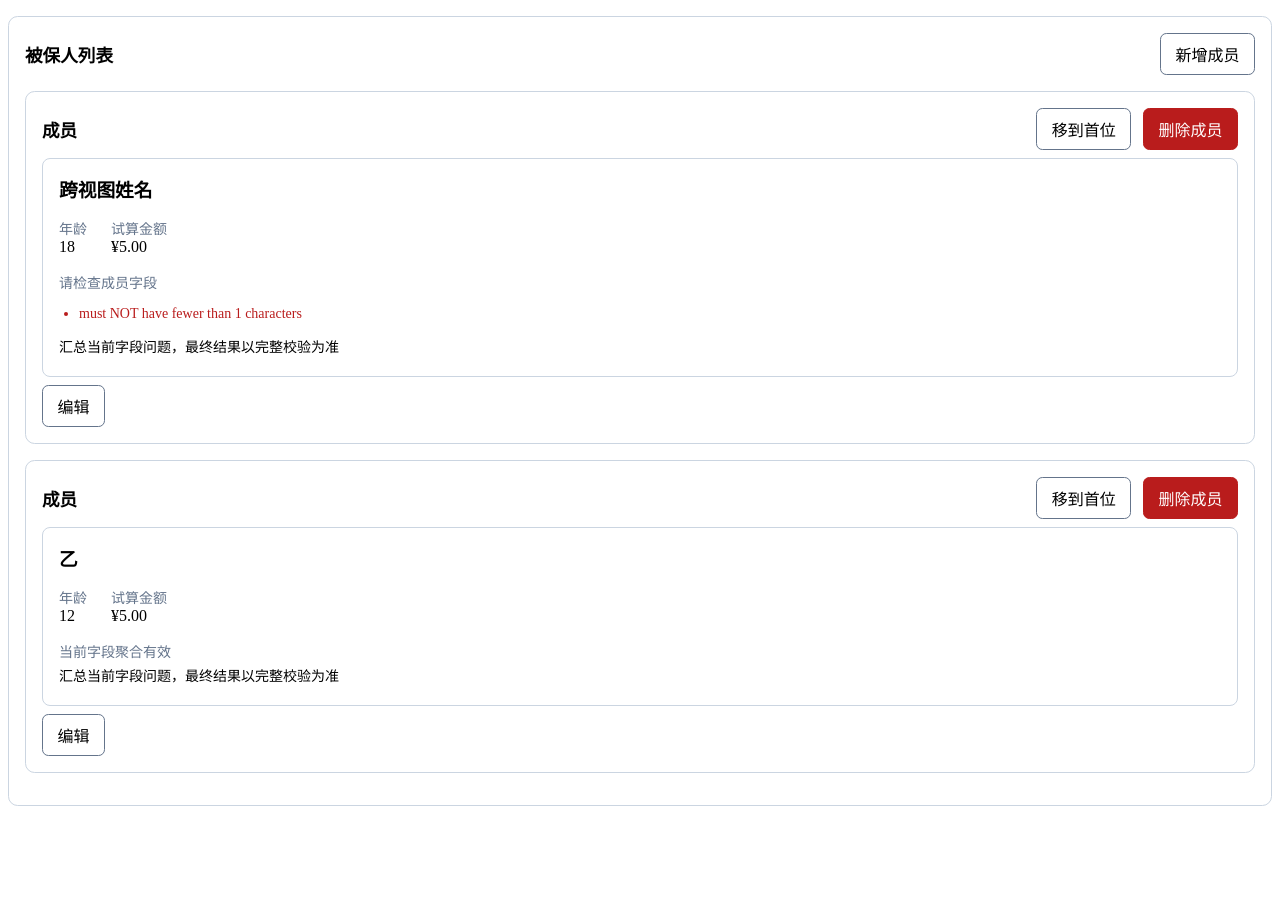
Test: switches Profiles on the same Runtime, preserves edits and retains hidden-field rules
The image size is (1280, 900).
Earlier steps of the test are not shown.
Later steps or results of the test are not shown.
Step 1. Click the 1st button "编辑" → (73, 406), box 42,385 -> 105,427
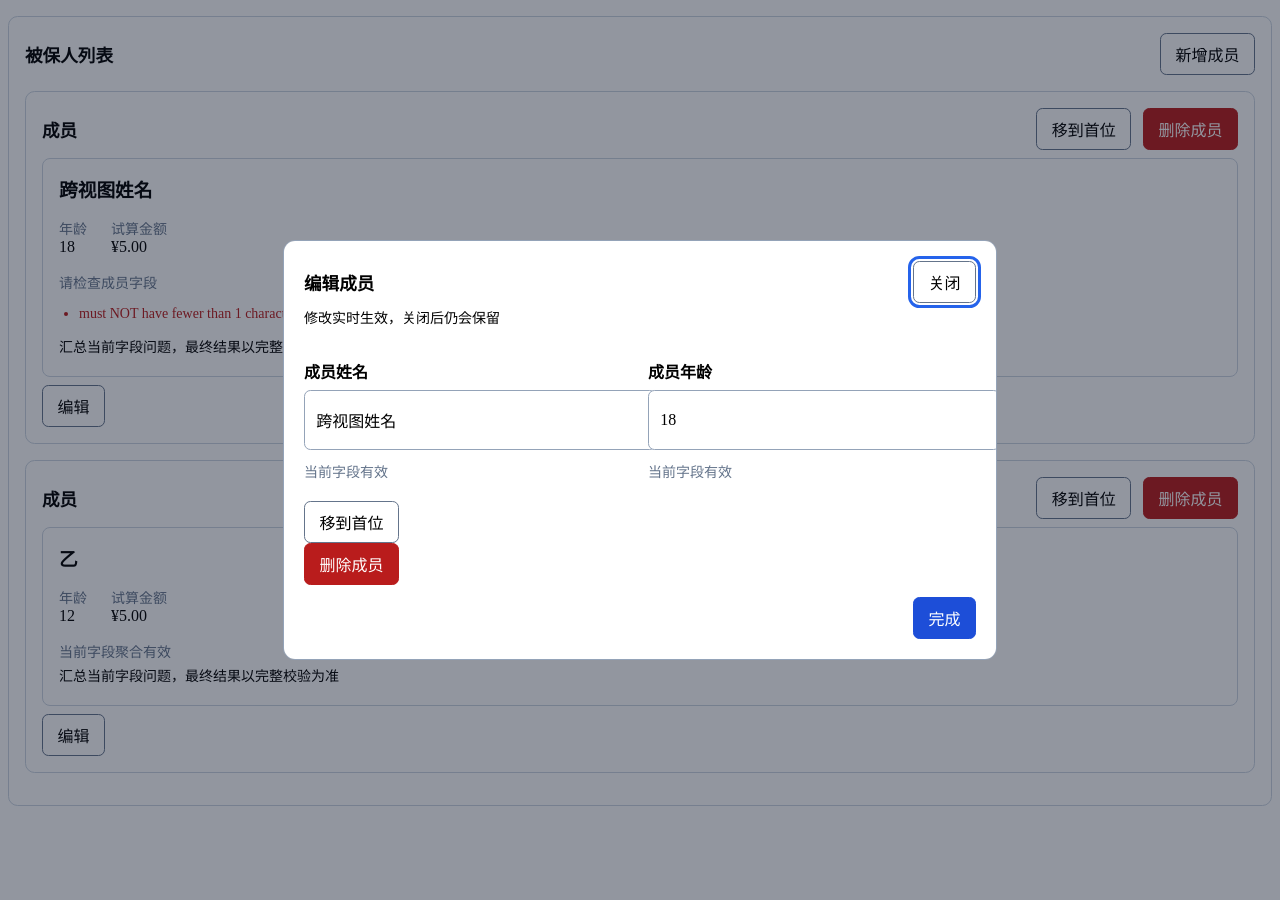
expect the field labelled "成员姓名" holds "跨视图姓名": met, box 304,390 -> 656,450
